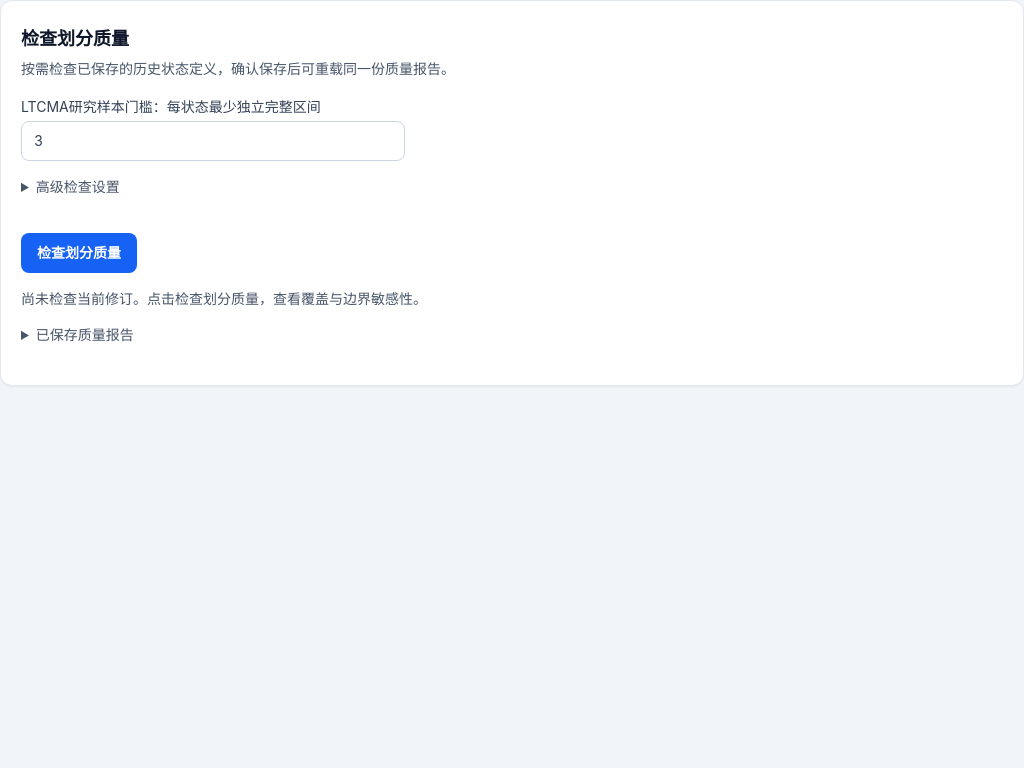
新报告按已声明的下一状态边界解释持续期
Click the button "检查划分质量": (79, 253) [21, 233, 137, 273]
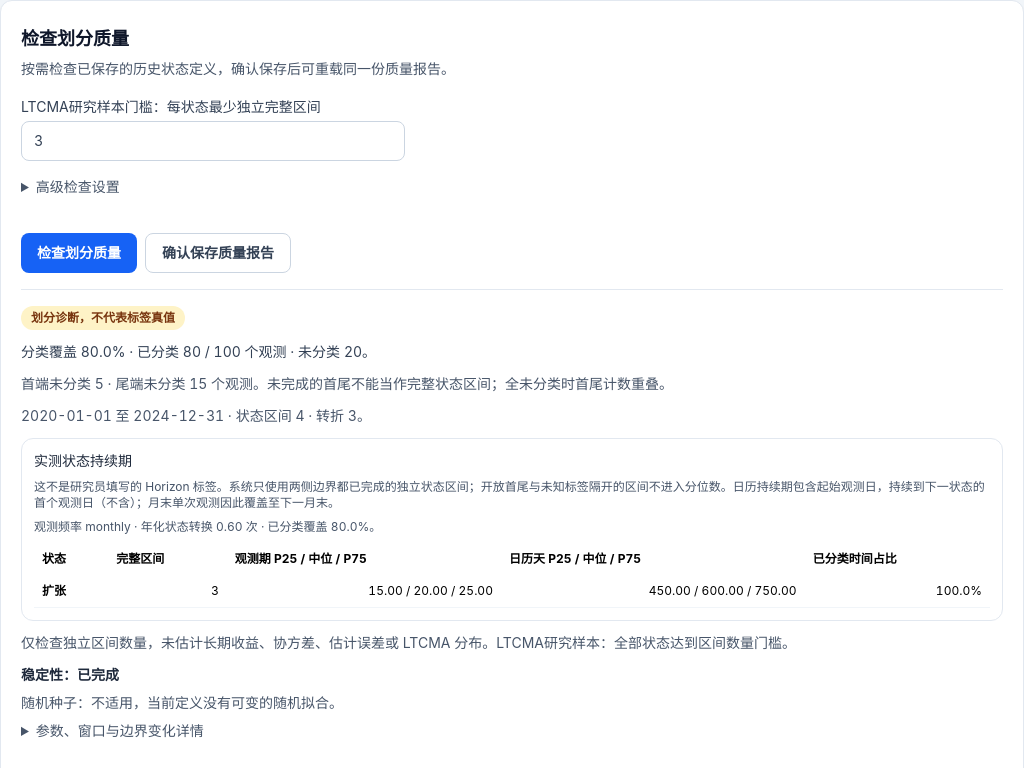
Check: the element named "市场状态实测时间尺度" shows "持续到下一状态的首个观测日（不含）", box [34, 479, 985, 510]
